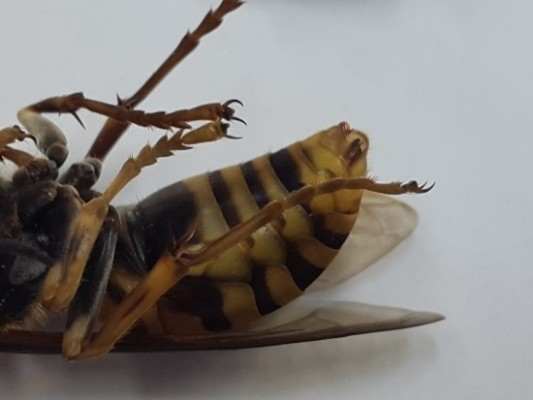asian_giant_hornet: (1, 98, 377, 360)
